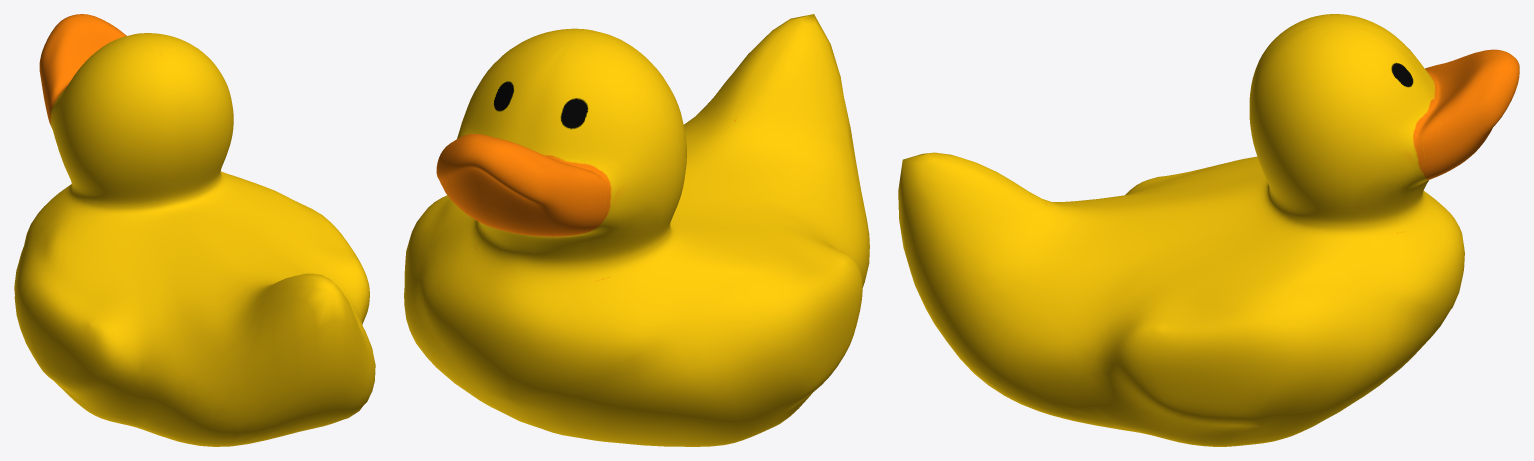
File: canard.glb
The picture shows the model from 3 angles, left to right: view 1: azimuth 30°, elevation 25°; view 2: azimuth 150°, elevation 25°; view 3: azimuth 270°, elevation 25°; orthographic projection. The views are drawn at different scales.
Visible parts, largest first — view 1: Sphere; view 2: Sphere; view 3: Sphere.
Part boxes in pixels (left/top/right/bottom): Sphere: left=14, top=14, right=375, bottom=446; Sphere: left=404, top=14, right=869, bottom=446; Sphere: left=898, top=14, right=1519, bottom=446.
Size of the model in its own units: 0.18 by 0.1781 by 0.2706.
Materials: 1 (1 with a texture image).
